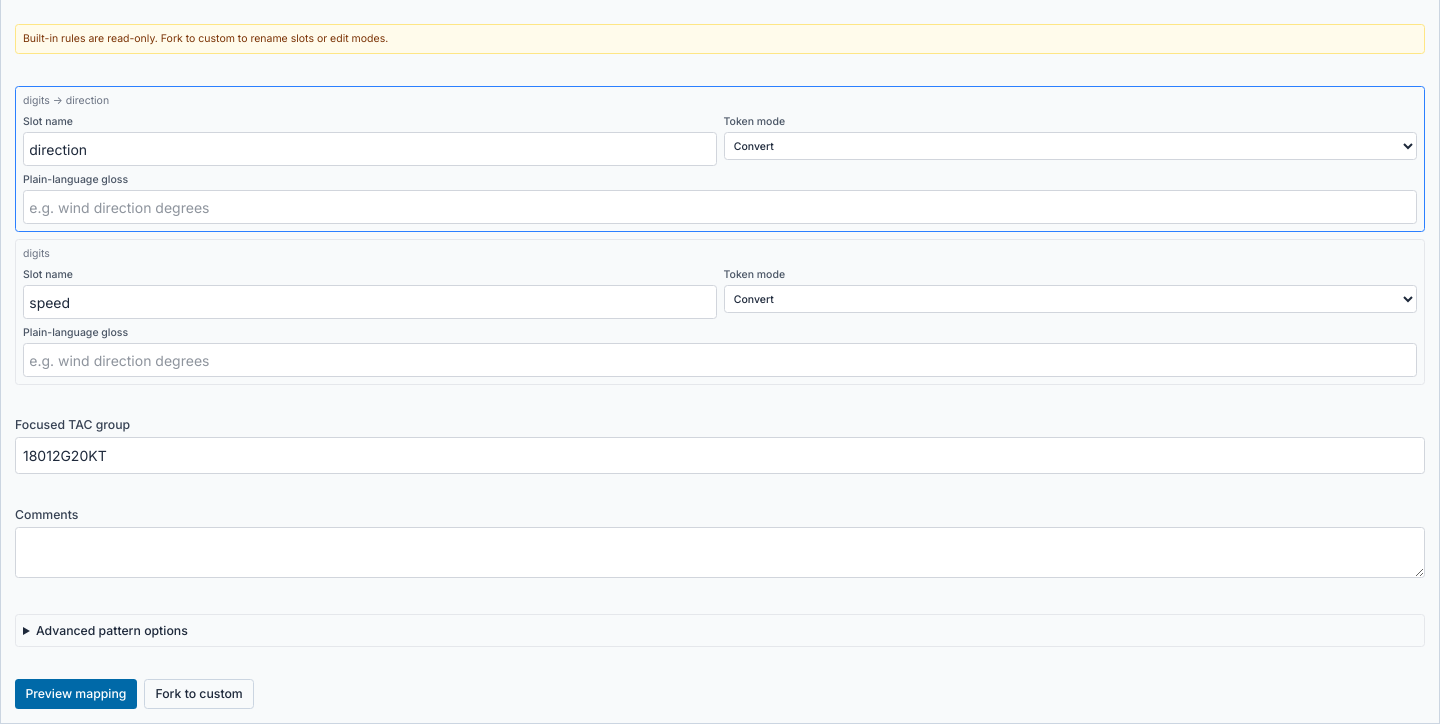
Scenario: ConversionTemplatesPanel › renders unmatched preview branch
(page scrolled)
Click the button with test id "conversion-templates-preview". click: (76, 694)
box: x1=15 y1=679 x2=137 y2=709
(page scrolled)
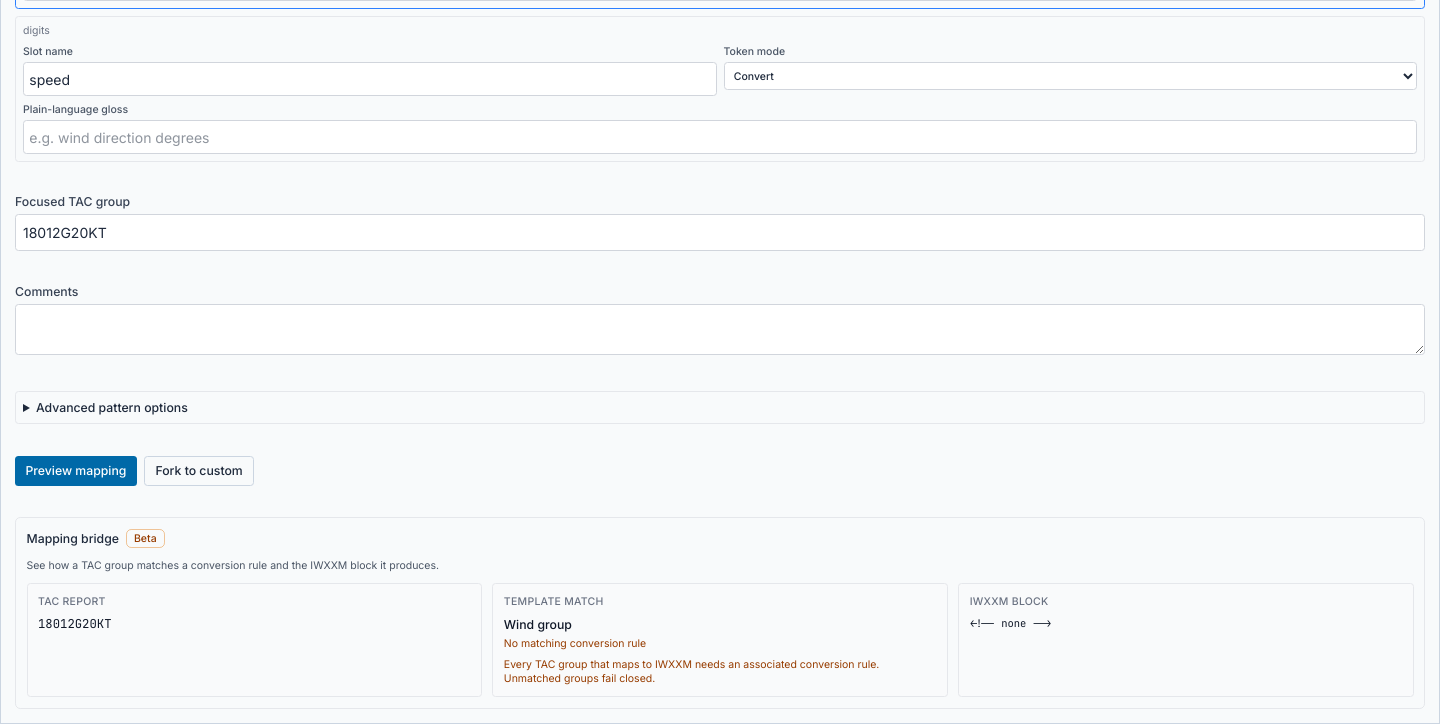
Expected: the element with test id "conversion-templates-preview-result" shows "No matching conversion rule", x1=504 y1=637 x2=646 y2=650
